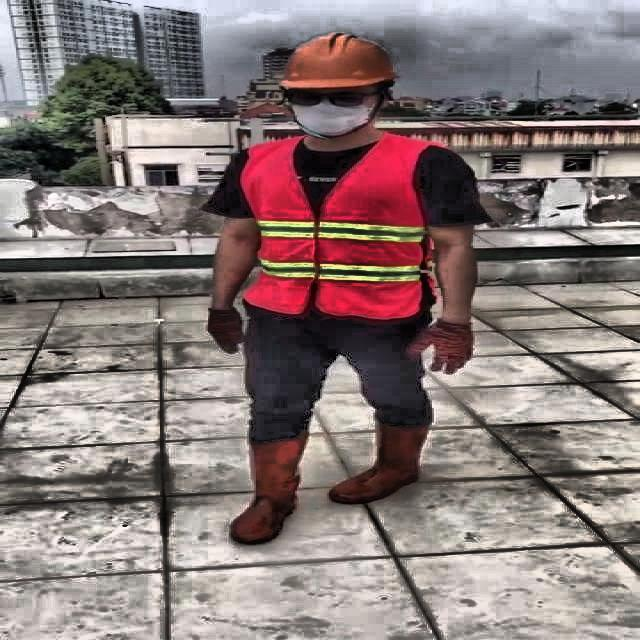safety_helmet: (274, 34, 400, 89)
safety_jacket: (242, 136, 425, 318)
